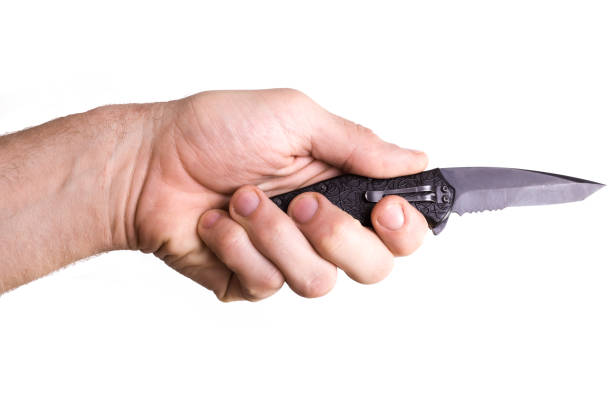knife: (266, 163, 606, 240)
